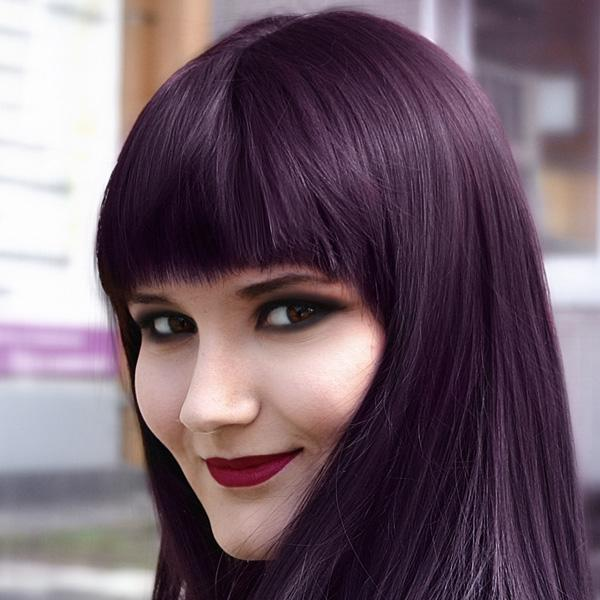Eyes: (251, 285, 342, 343), (135, 304, 201, 351)
